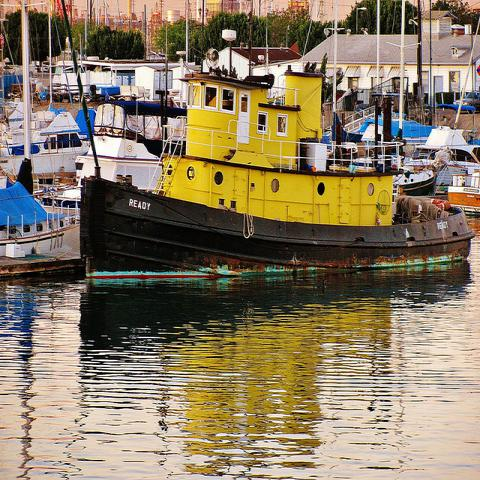car: (454, 90, 479, 112), (45, 90, 63, 103)
